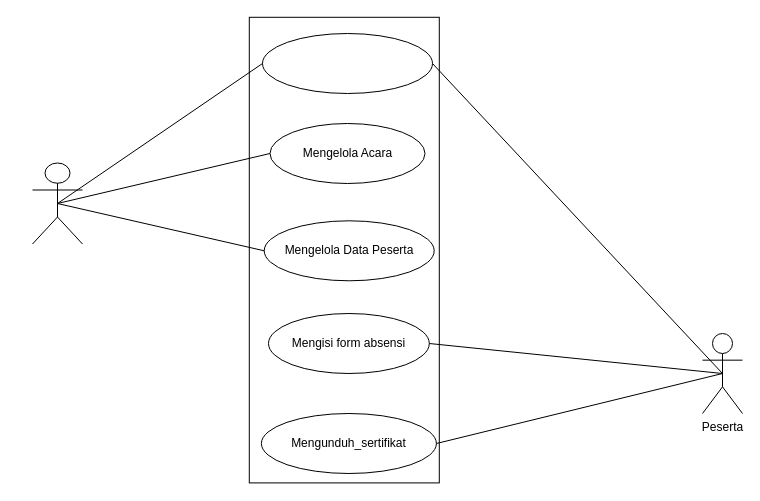
Image size: 760x501. Some labels were removed from this diagram. The shapes that lost their labels are listed below. From the top down, each one's centre as x and y in pixels, then its label:
pixel 347 63: Melakukan Auth
pixel 57 203: Penyelenggara
